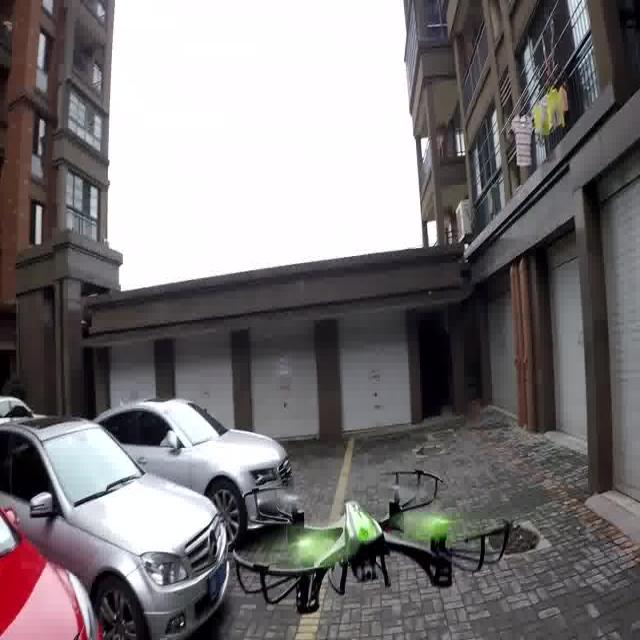drone: (223, 448, 537, 636)
